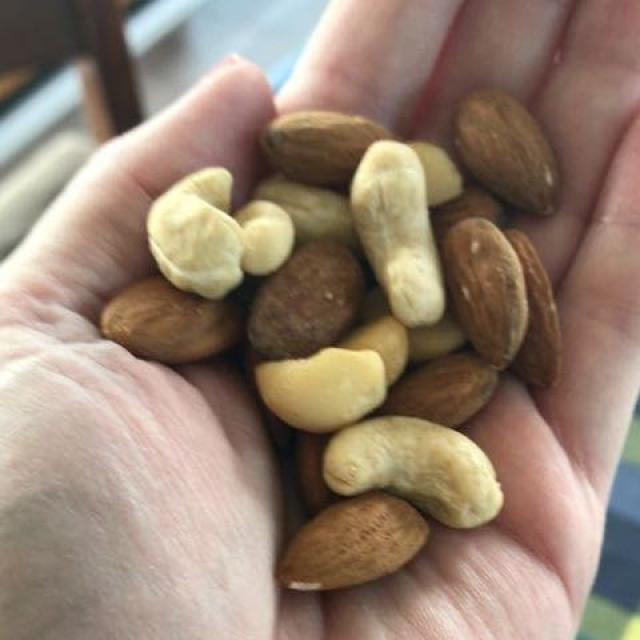mixed-nuts: (113, 95, 557, 553)
